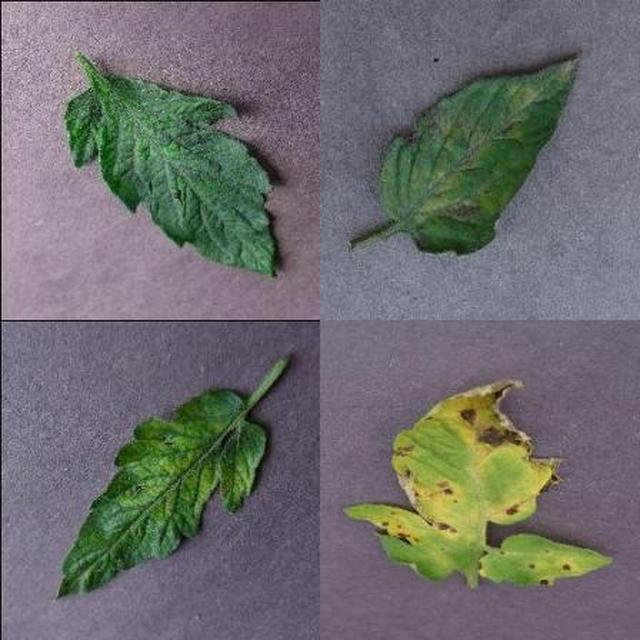Mosaic Virus Leaf: (190, 80, 640, 640)
